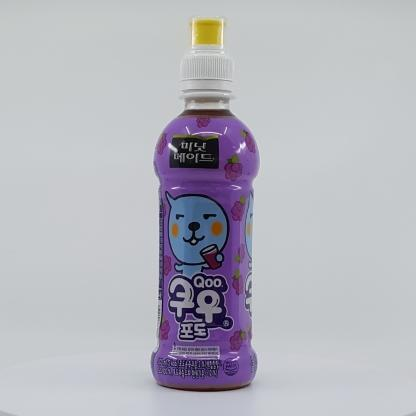------300ML: (150, 14, 260, 390)
